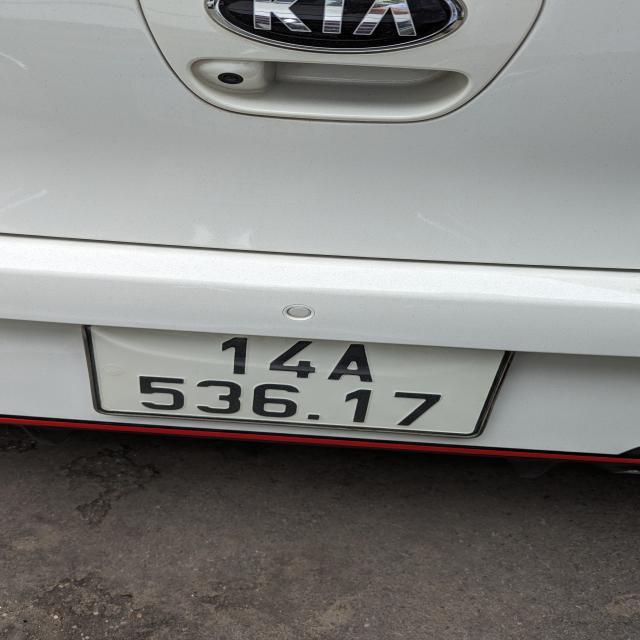License: (84, 324, 514, 439)
